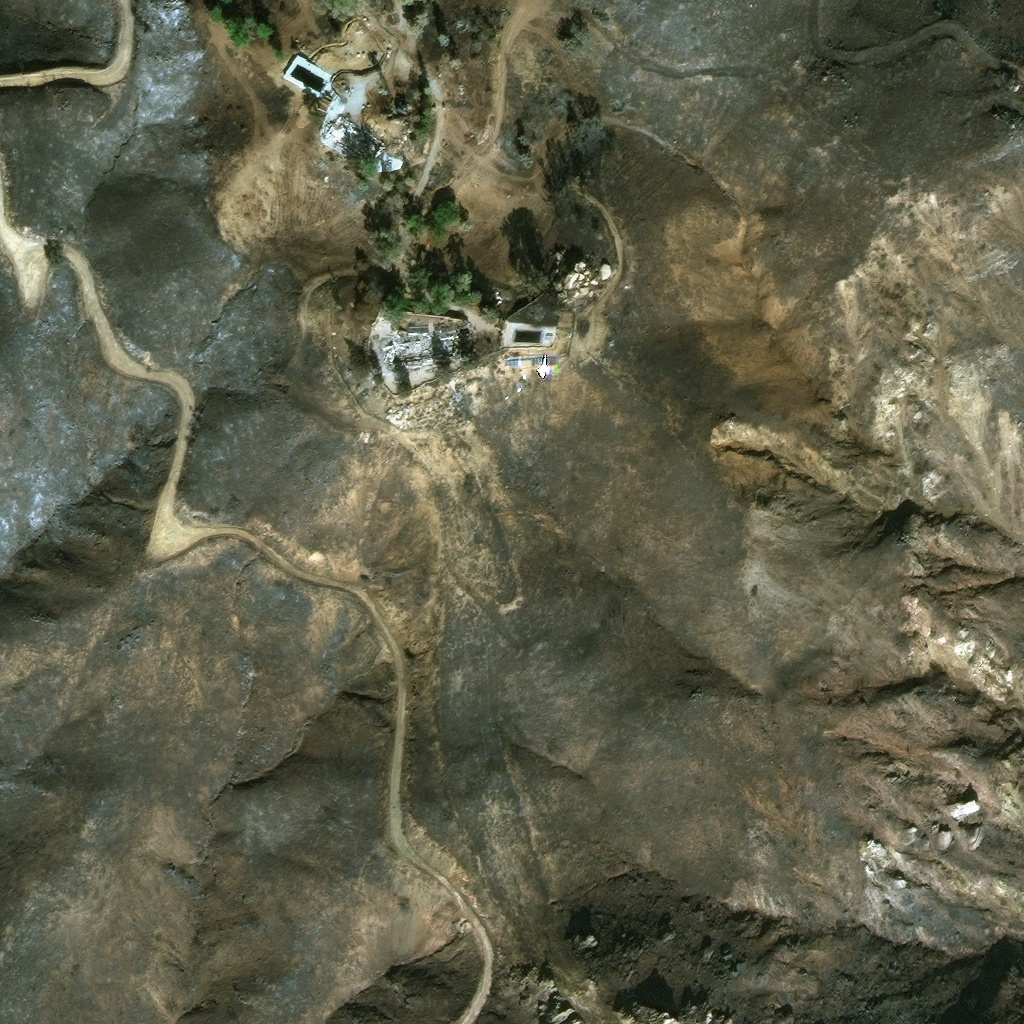3 destroyed: (380, 332, 473, 372), (322, 112, 386, 164), (486, 290, 503, 306), (527, 303, 544, 319), (415, 249, 427, 265)
